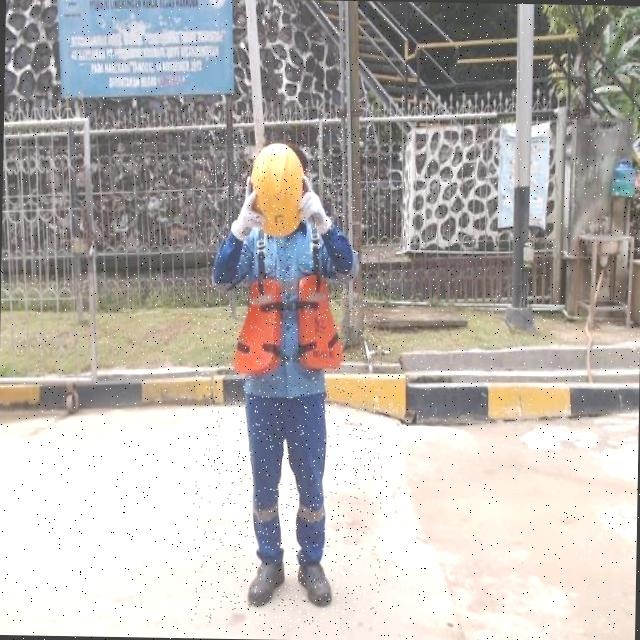boots: (245, 544, 288, 610), (291, 552, 334, 610)
helmet: (250, 138, 308, 239)
vest: (233, 276, 346, 376)
